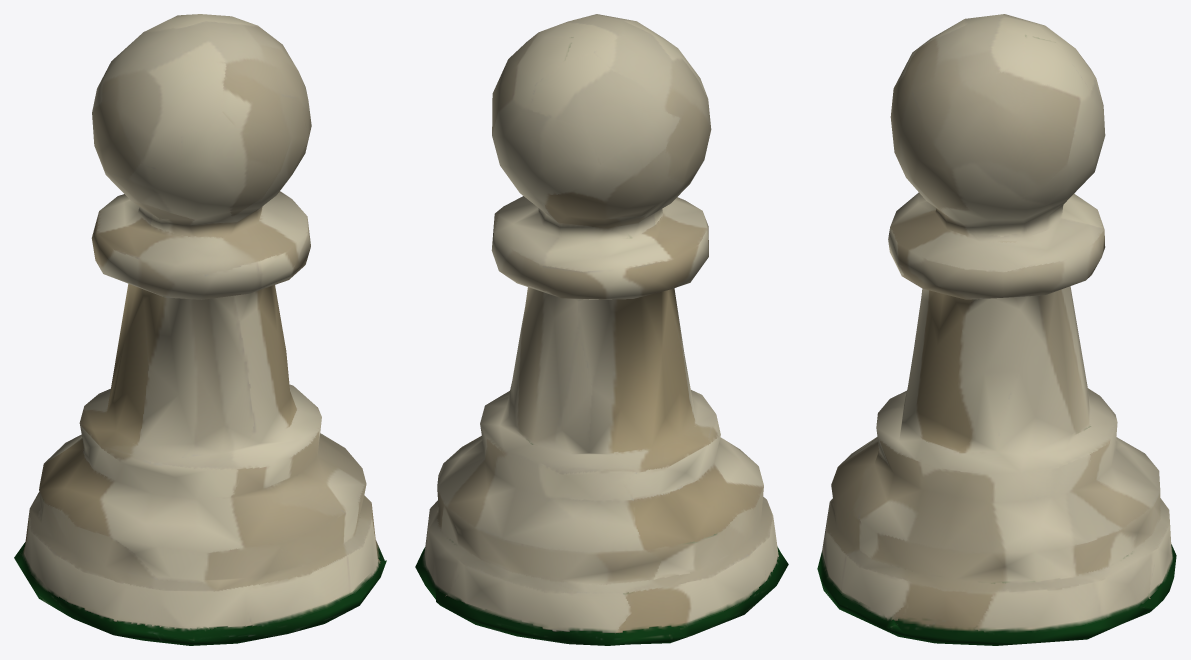
The model's file is chess-pawn-white.glb.
3 views of the same model, side by side, from view 1: azimuth 30°, elevation 25°; view 2: azimuth 150°, elevation 25°; view 3: azimuth 270°, elevation 25° (orthographic).
Parts seen in each view (by area): view 1: geometry_0.001; view 2: geometry_0.001; view 3: geometry_0.001.
Part boxes in pixels (box(x1,y1,x2,y2)): geometry_0.001: box(14, 14, 386, 645); geometry_0.001: box(415, 14, 788, 645); geometry_0.001: box(817, 14, 1176, 645).
Bounding box in the file's own units: 0.5909 × 0.9998 × 0.5933.
Materials: 1 (1 with a texture image).
